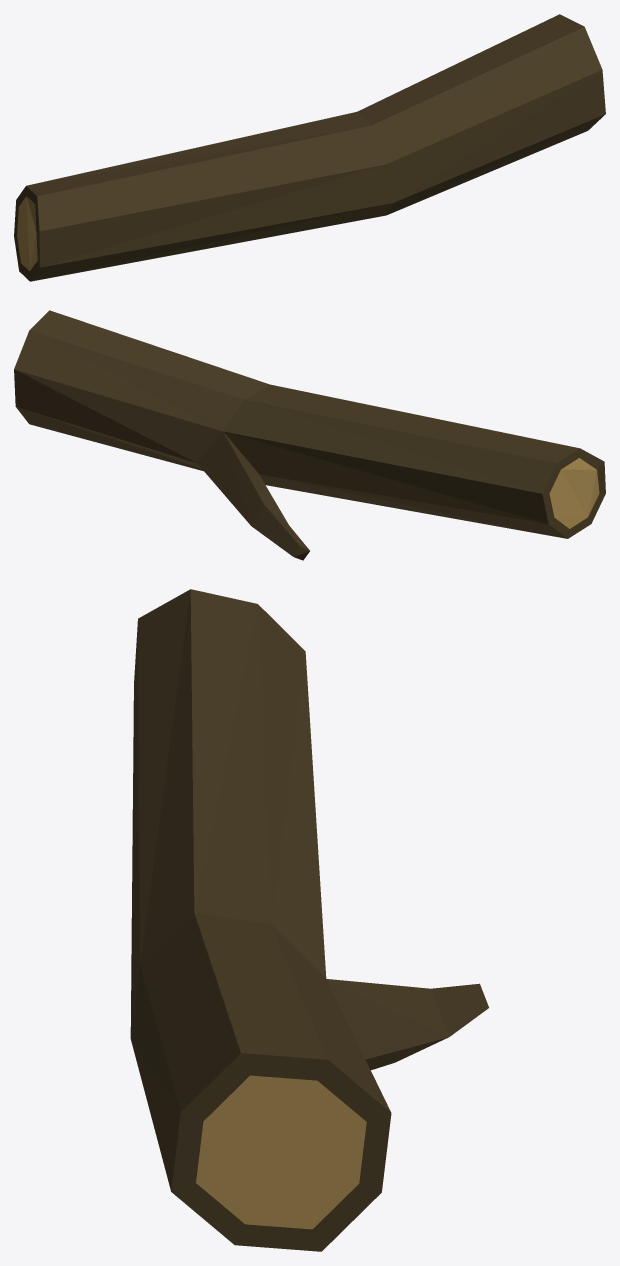
Rendered from Tree Log 01.FBX.
3 views of the same model, one above another, from view 1: azimuth 30°, elevation 25°; view 2: azimuth 150°, elevation 25°; view 3: azimuth 270°, elevation 25° (orthographic). The views are drawn at different scales.
Parts seen in each view (by area): view 1: Tree Log 01; view 2: Tree Log 01; view 3: Tree Log 01.
Part boxes in pixels (<box>): Tree Log 01: <box>14,14,605,281</box>; Tree Log 01: <box>14,310,605,560</box>; Tree Log 01: <box>130,589,488,1251</box>.
Bounding box in the file's own units: 365 × 88.29 × 107.
